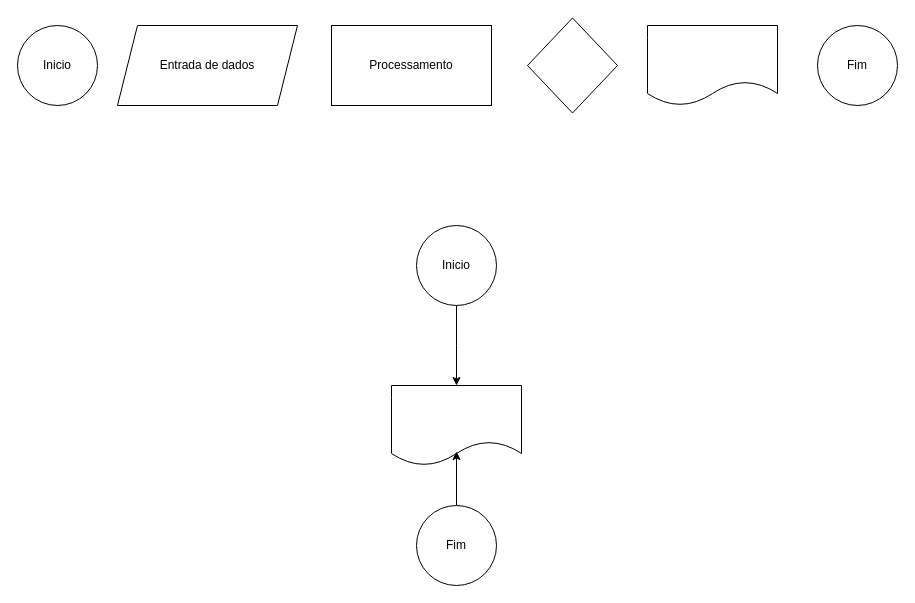
The diagram is 915 pixels wide and 603 high, and some of its shapes have lost their labels. The centre of each missing label's shape, as x and y in pixels:
"Decisões Validar" belongs at pixel 572 65.
"Olá Mundo!" belongs at pixel 456 425.
"Saída de dados impressão" belongs at pixel 712 65.
